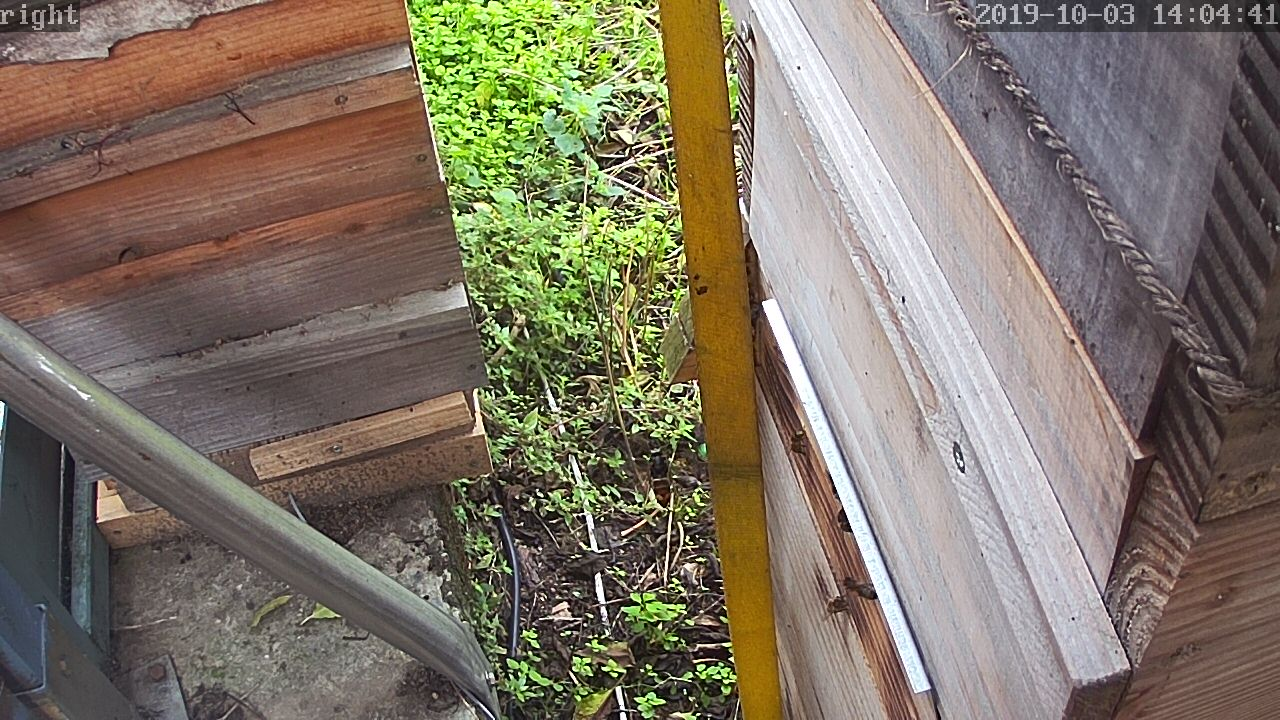bee: (824, 576, 880, 615), (785, 425, 812, 461)
hornet: (635, 449, 684, 505)
